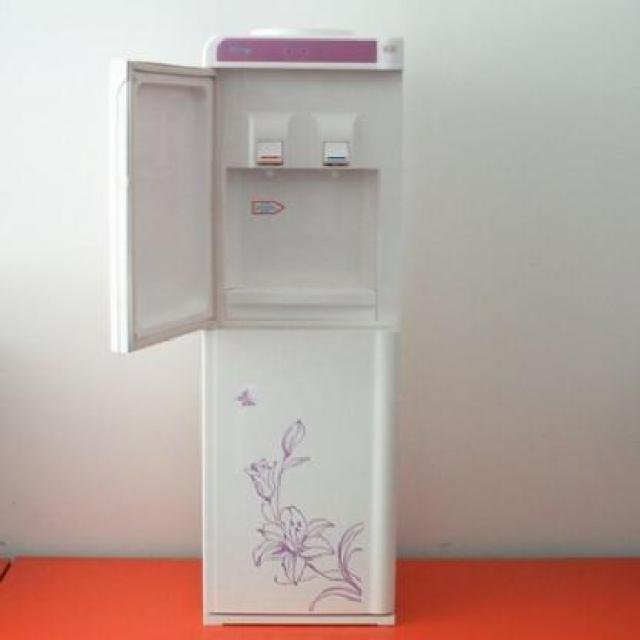cooler: (195, 24, 407, 632)
